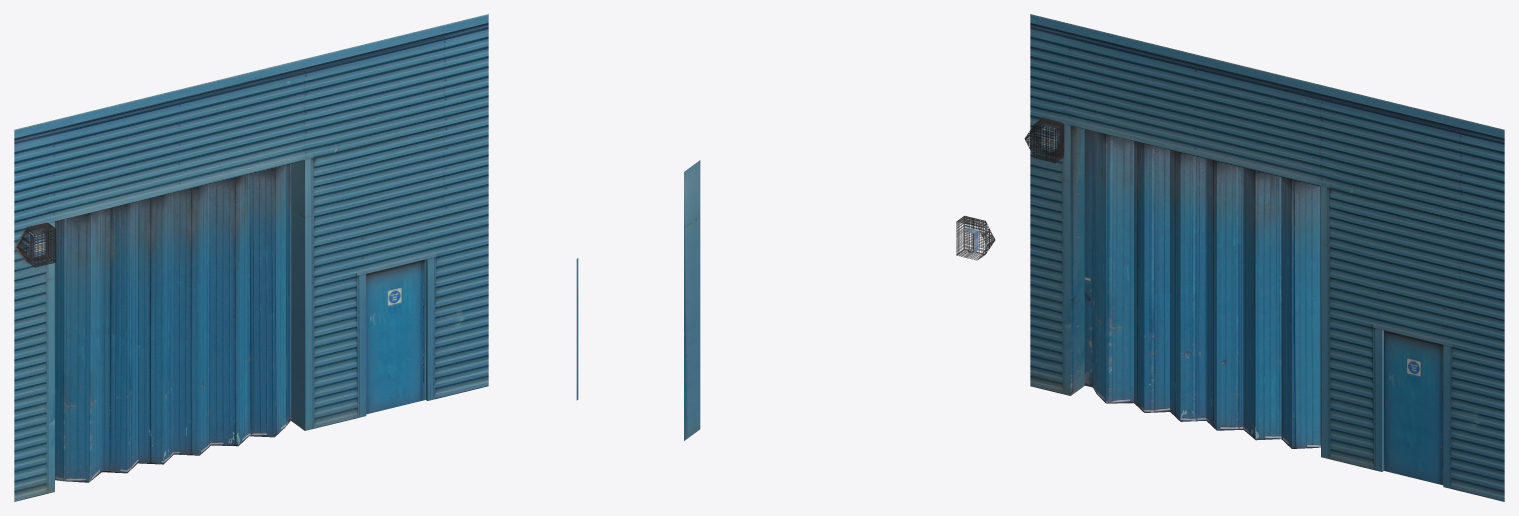
The model's file is building_front8.glb.
The picture shows the model from 3 angles, left to right: view 1: azimuth 30°, elevation 25°; view 2: azimuth 150°, elevation 25°; view 3: azimuth 330°, elevation 25°; orthographic projection.
Visible parts, largest first — view 1: building_front8; view 2: building_front8; view 3: building_front8.
Boxes of the visible parts, x1,y1,x2,y2 form: building_front8: [14, 14, 488, 501]; building_front8: [576, 160, 995, 440]; building_front8: [1024, 14, 1504, 501].
Bounding box in the file's own units: 5 × 3.75 × 0.4479.
Materials: 2 (2 with a texture image).
